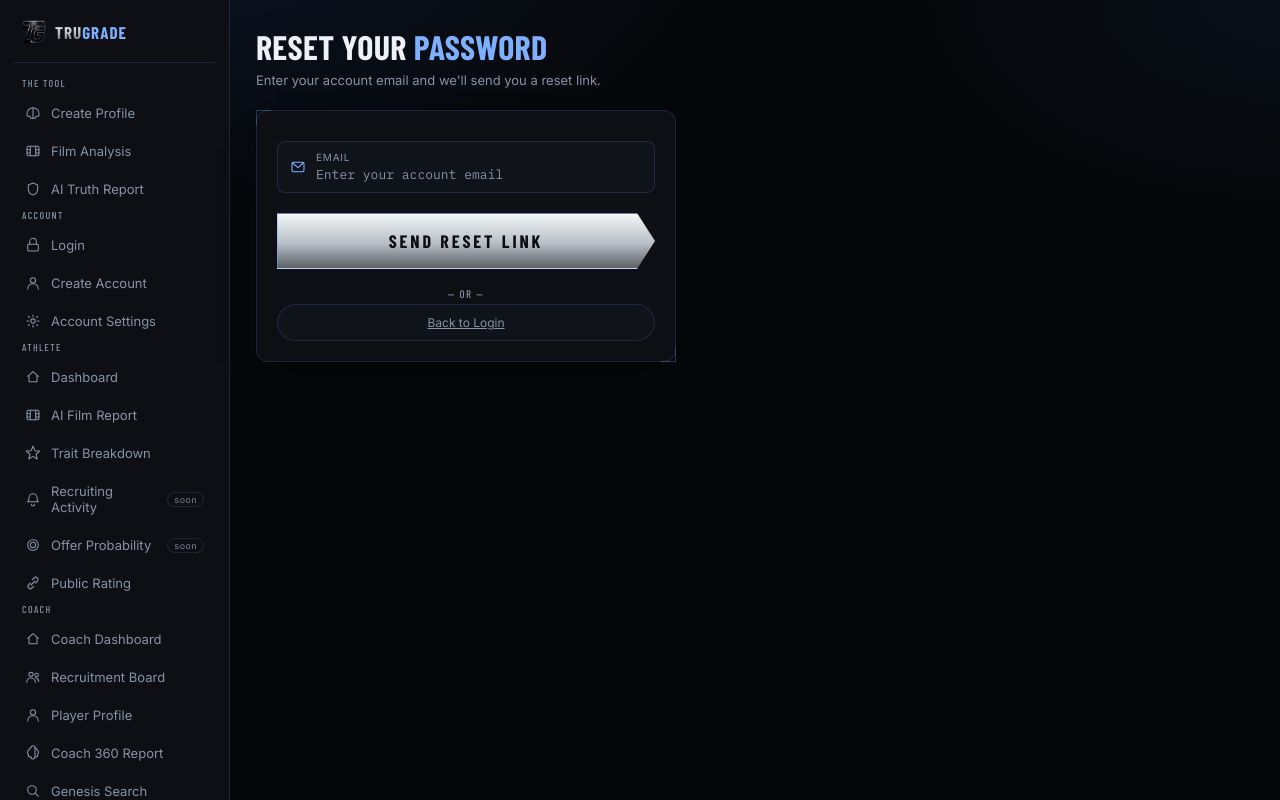
Scenario: Forgot Password route › requests a reset link and shows the dev link when email isn't configured
The image size is (1280, 800).
Type "coach@example.com" into the field labelled "Email" at (479, 174), box [316, 166, 642, 183]
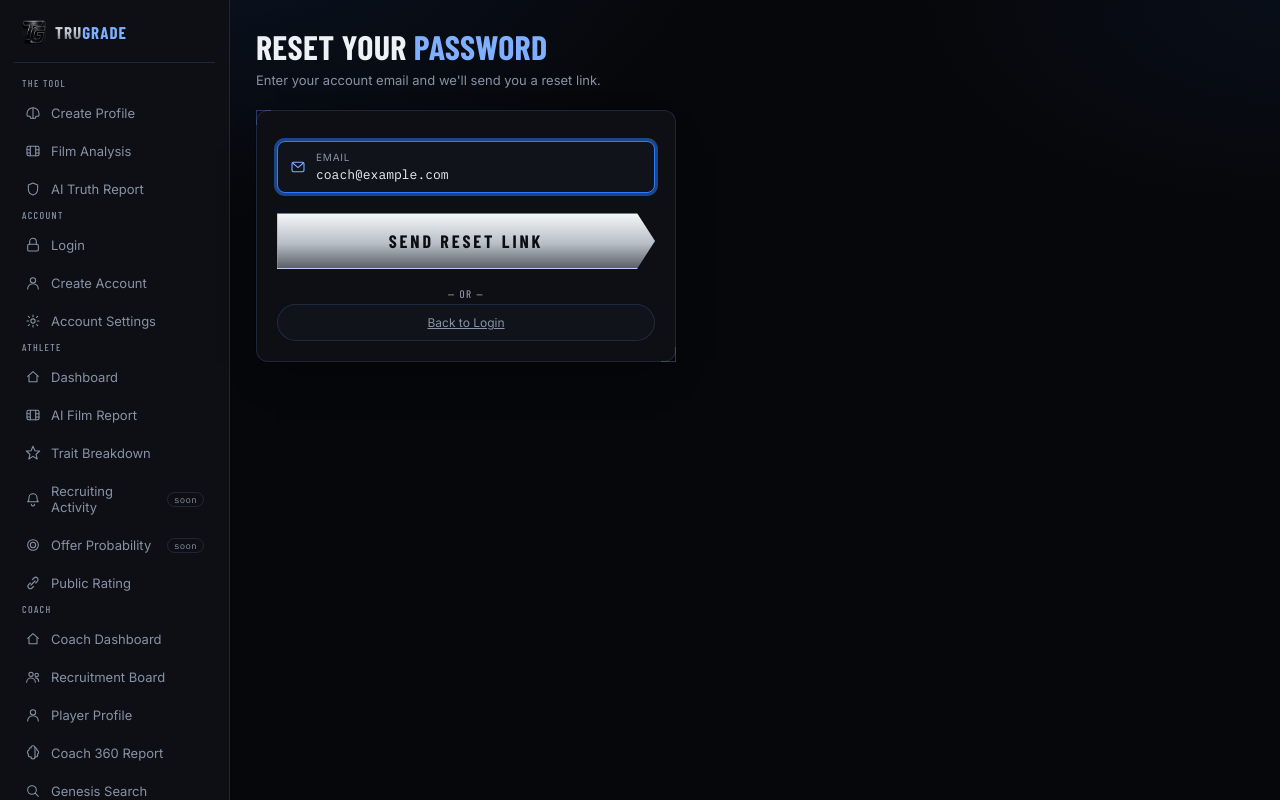
Click the button "Send Reset Link" at (466, 241), box [277, 213, 655, 269]
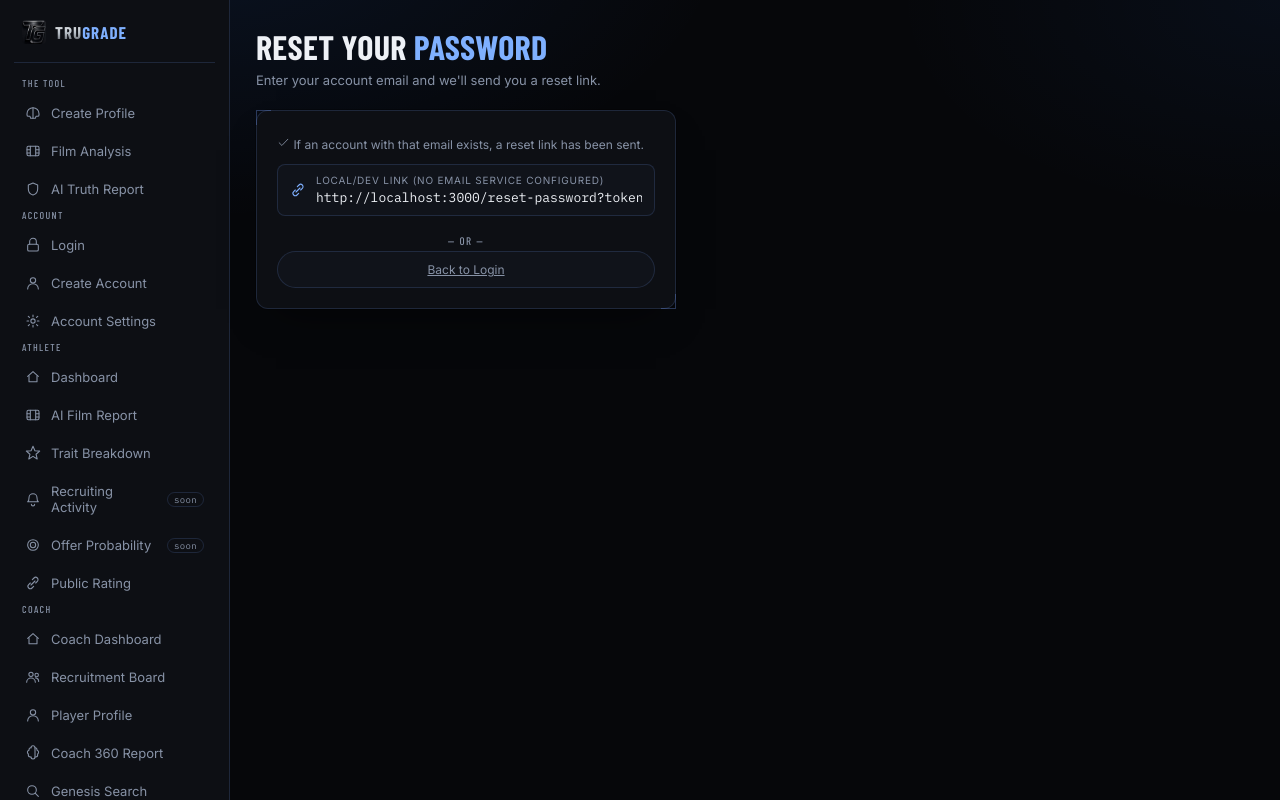
Expected: the text "If an account with that email exists" is shown, [293, 137, 644, 152]
Expected: the field labelled "Local/dev link (no email service configured)" holds "http://localhost:3000/reset-password?token=real-dev-token-123", [316, 189, 642, 206]
